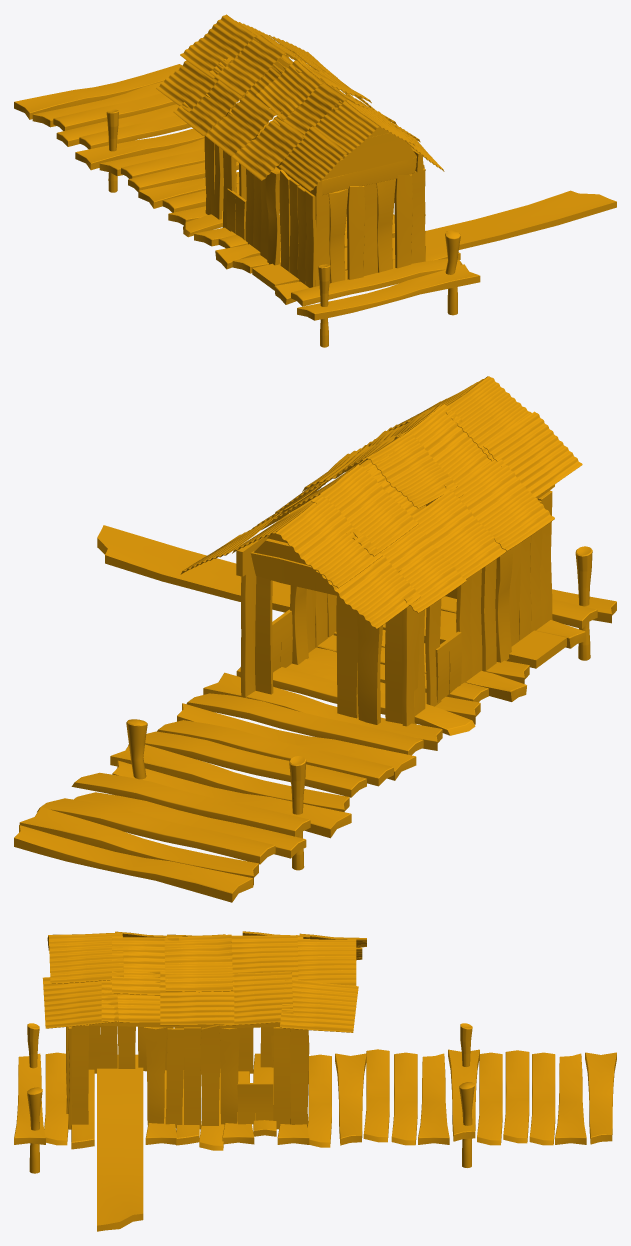
Rendered from shack_uv_casie.fbx.
3 views of the same model, one above another, from view 1: azimuth 30°, elevation 25°; view 2: azimuth 150°, elevation 25°; view 3: azimuth 270°, elevation 25° (orthographic). The views are drawn at different scales.
Parts seen in each view (by area): view 1: SHACK_CASIETHISONEFOREXPORT_CLEAN; view 2: SHACK_CASIETHISONEFOREXPORT_CLEAN; view 3: SHACK_CASIETHISONEFOREXPORT_CLEAN.
Part boxes in pixels (x1,y1,x2,y2): SHACK_CASIETHISONEFOREXPORT_CLEAN: (14,14,616,347); SHACK_CASIETHISONEFOREXPORT_CLEAN: (14,376,616,902); SHACK_CASIETHISONEFOREXPORT_CLEAN: (14,931,616,1231).
Bounding box in the file's own units: 20.65 × 11.27 × 29.71.
